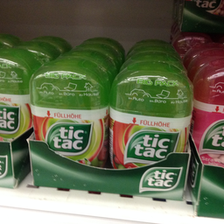candy: (101, 63, 193, 195), (28, 57, 108, 184), (184, 69, 224, 178), (1, 45, 35, 160)
